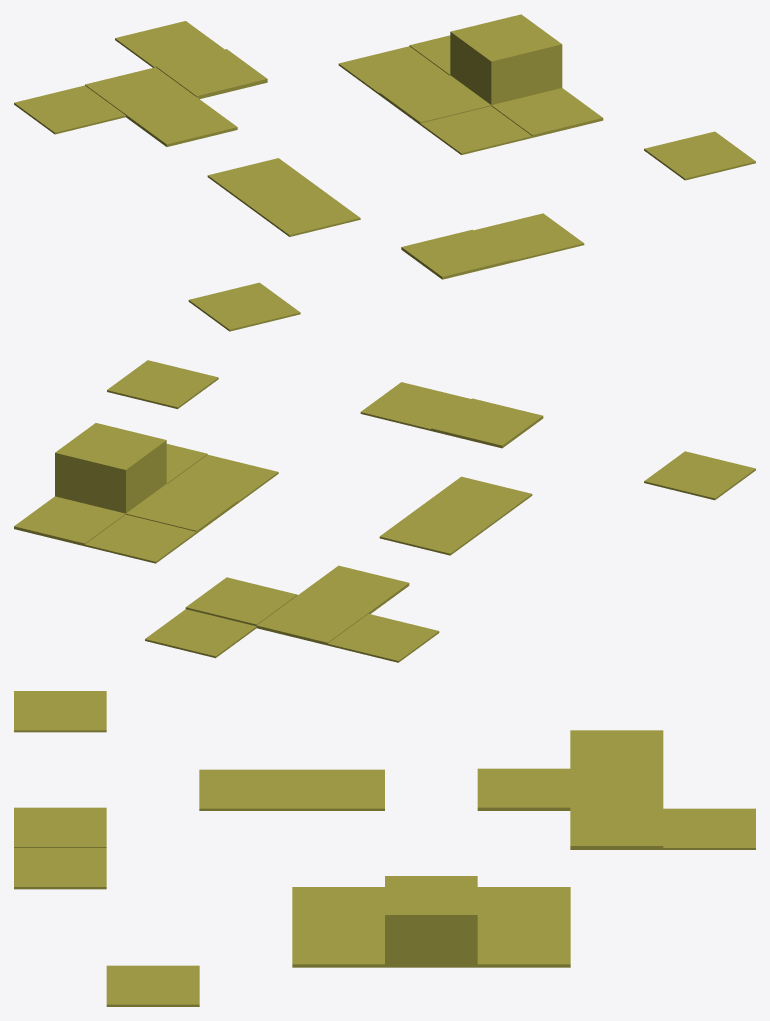
Rendered from SM_Terrain_Bare_01.fbx.
3 renders of one model, top to bottom at view 1: azimuth 30°, elevation 25°; view 2: azimuth 150°, elevation 25°; view 3: azimuth 270°, elevation 25°, orthographic. The views are drawn at different scales.
Visible parts, largest first — view 1: SM_Tile_Bare_01; view 2: SM_Tile_Bare_01; view 3: SM_Tile_Bare_01.
Part boxes in pixels (x1,y1,x2,y2): SM_Tile_Bare_01: [14, 14, 755, 331]; SM_Tile_Bare_01: [14, 360, 755, 662]; SM_Tile_Bare_01: [14, 691, 755, 1006].
Size of the model in its own units: 3200 by 250 by 3200.
